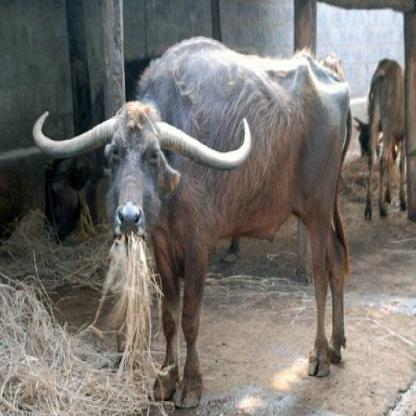cow: (102, 38, 350, 409), (364, 58, 406, 222)
